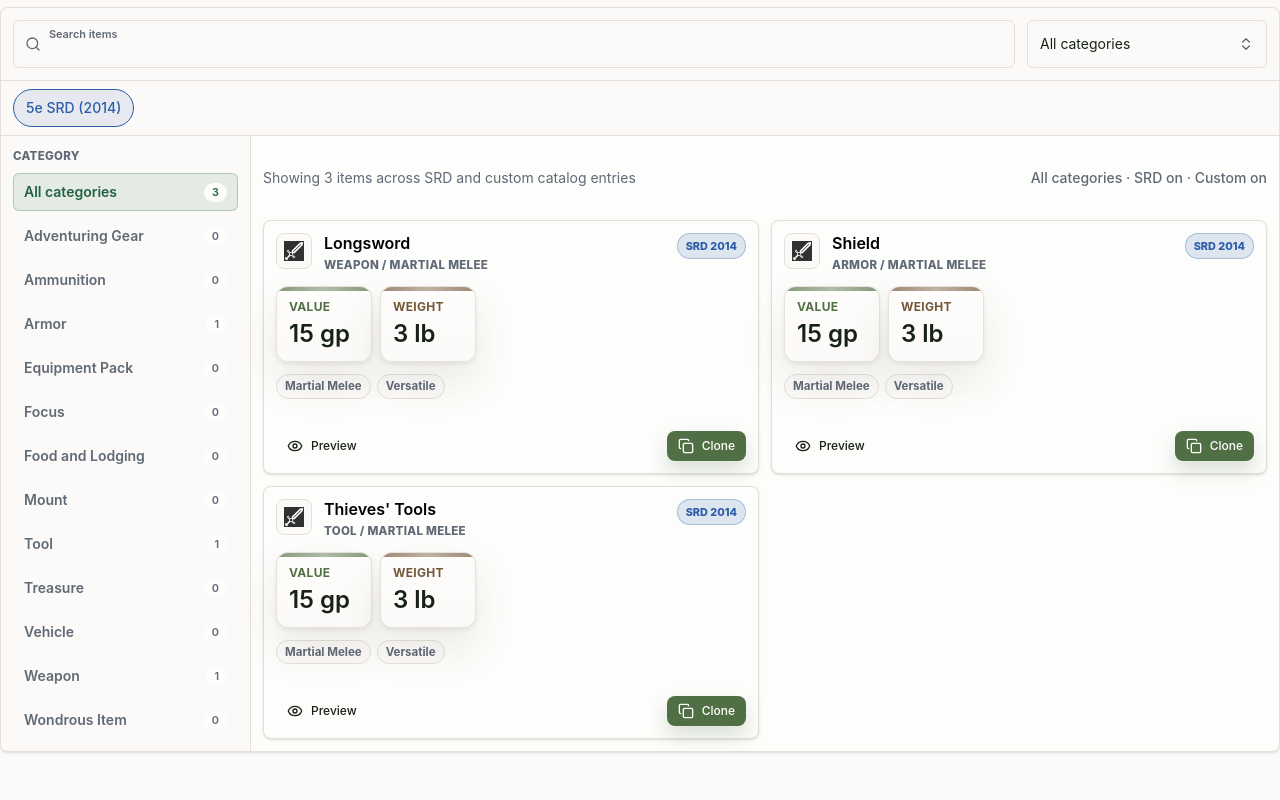
ItemsPage › keeps category filters visible and removes non-clickable signals
(page scrolled)
Expected: the heading "Longsword" is shown, 324,233 -> 410,253
Click the button "Weapon 1": (126, 676) 13,657 -> 238,695
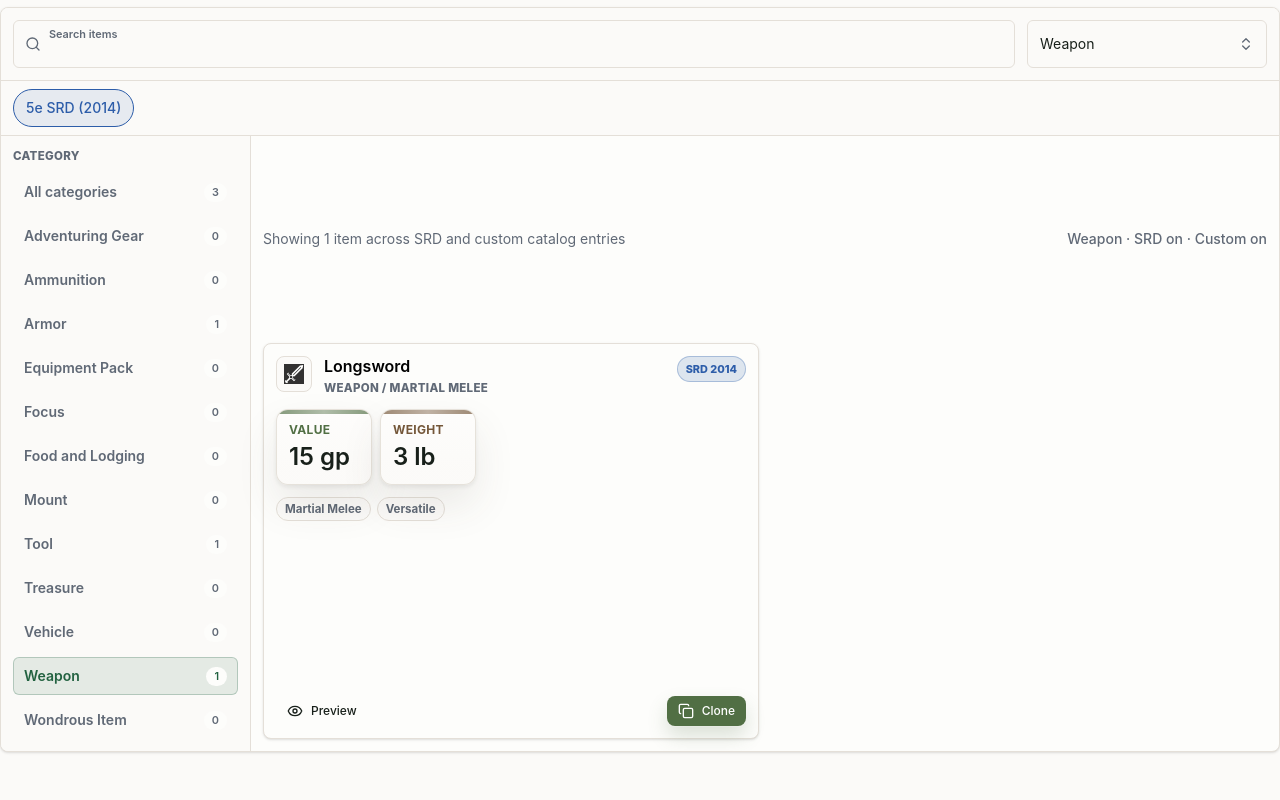
Expected: the heading "Longsword" is shown, 324,356 -> 410,376
Expected: the heading "Shield" is gone
Click the button "Armor 1": (126, 324) 13,305 -> 238,343
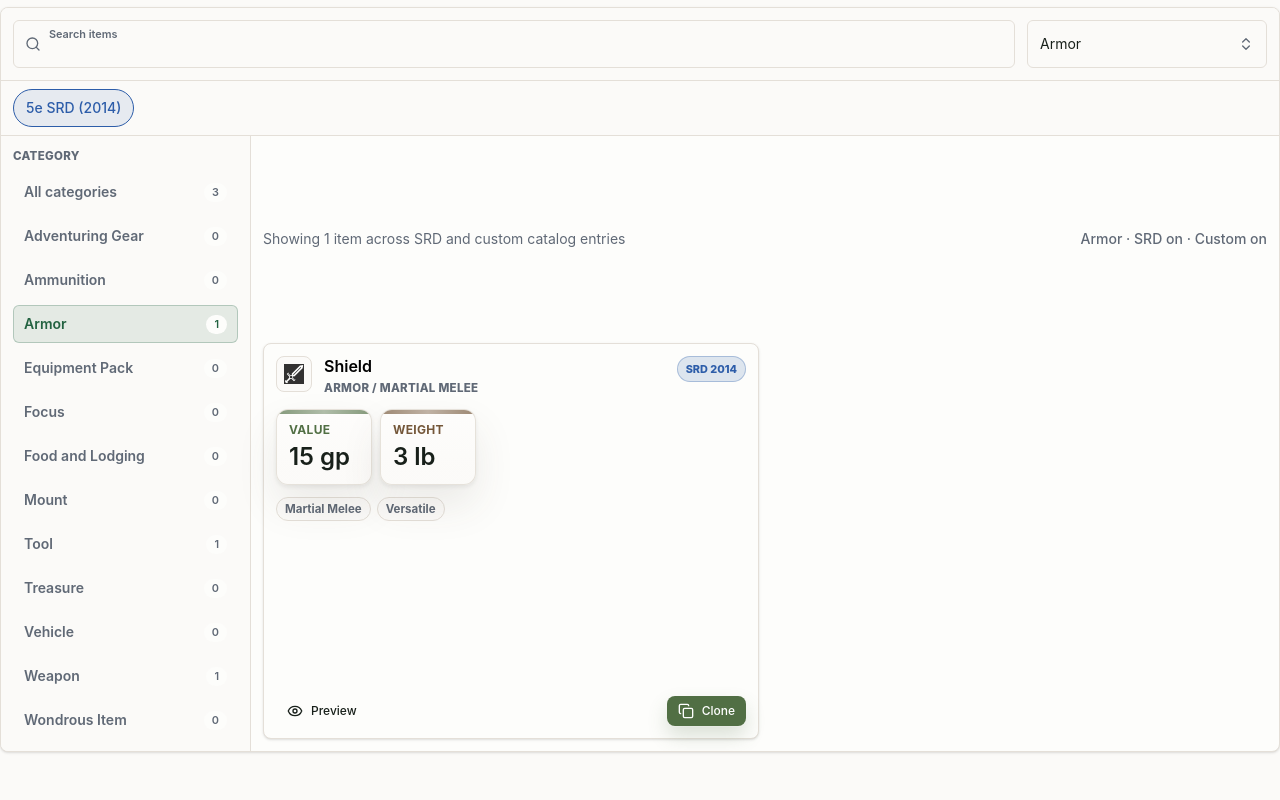
Expected: the heading "Shield" is shown, 324,356 -> 372,376
Expected: the heading "Longsword" is gone
Click the button "All categories 3": (126, 192) 13,173 -> 238,211
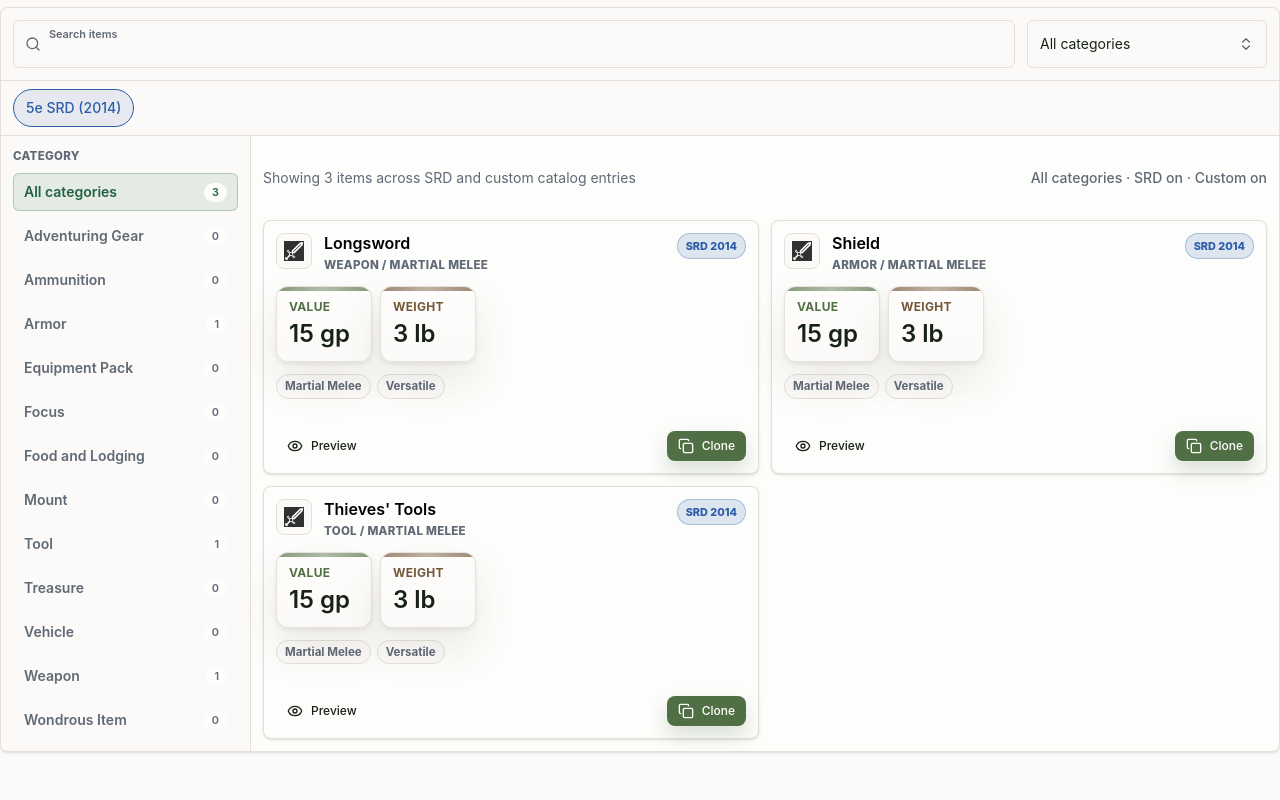
Expected: the heading "Shield" is shown, 832,233 -> 880,253
Expected: the heading "Longsword" is shown, 324,233 -> 410,253
